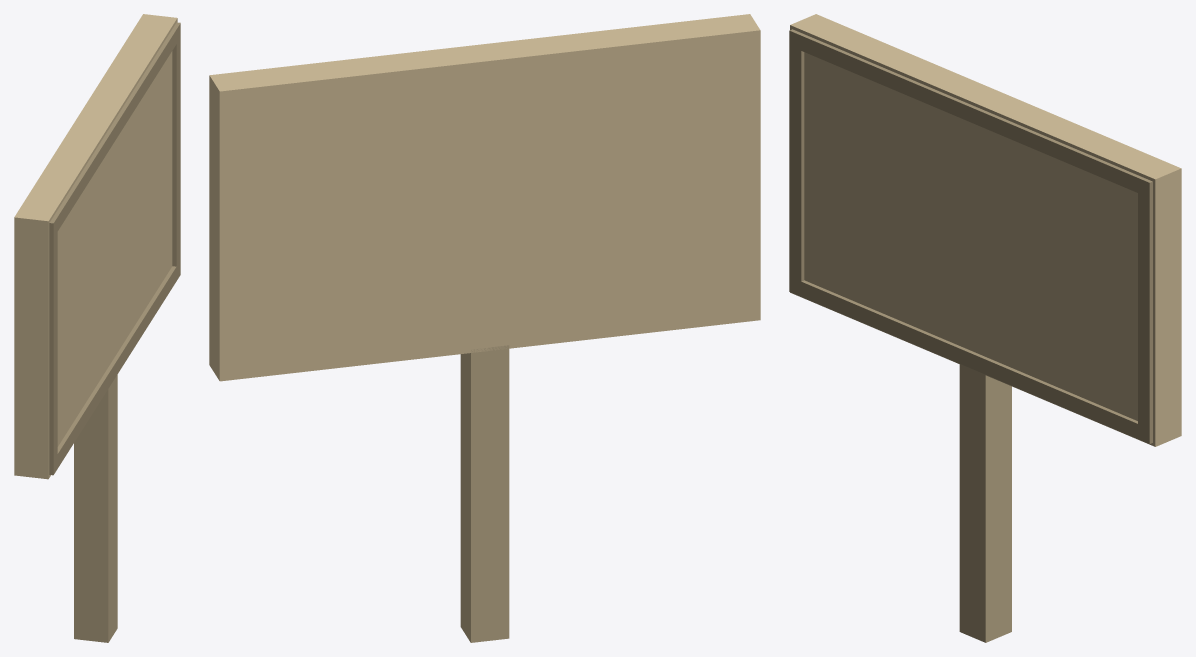
The model's file is sign_oak_diag.gltf.
3 renders of one model, left to right at view 1: azimuth 30°, elevation 25°; view 2: azimuth 150°, elevation 25°; view 3: azimuth 270°, elevation 25°, orthographic. The views are drawn at different scales.
Parts seen in each view (by area): view 1: sign_oak_diag; view 2: sign_oak_diag; view 3: sign_oak_diag.
Boxes of the visible parts, box(x1,y1,x2,y2) form: sign_oak_diag: box(14, 14, 180, 642); sign_oak_diag: box(209, 14, 760, 642); sign_oak_diag: box(789, 14, 1181, 642).
Bounding box in the file's own units: 0.664 × 1 × 0.664.
